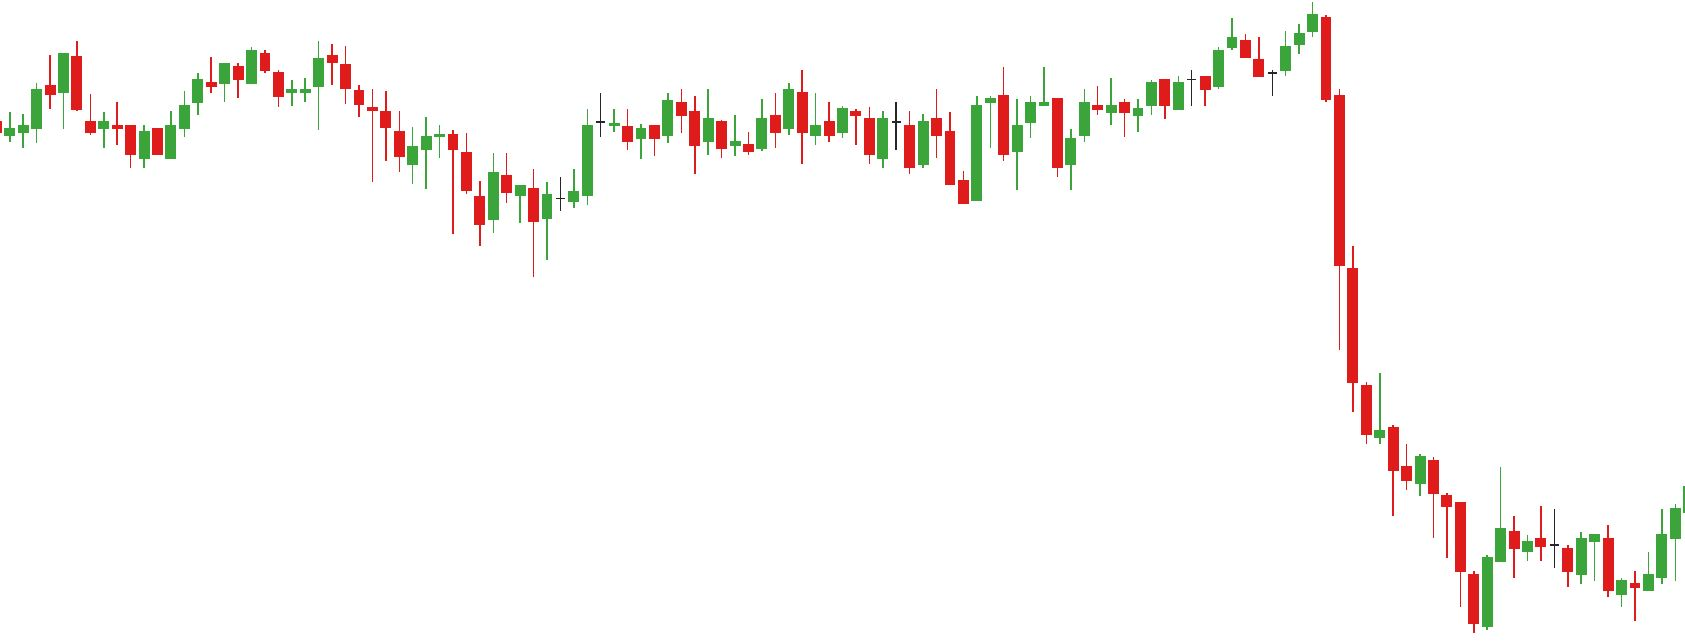buy: (475, 180, 556, 279)
sell: (1224, 2, 1334, 76)
